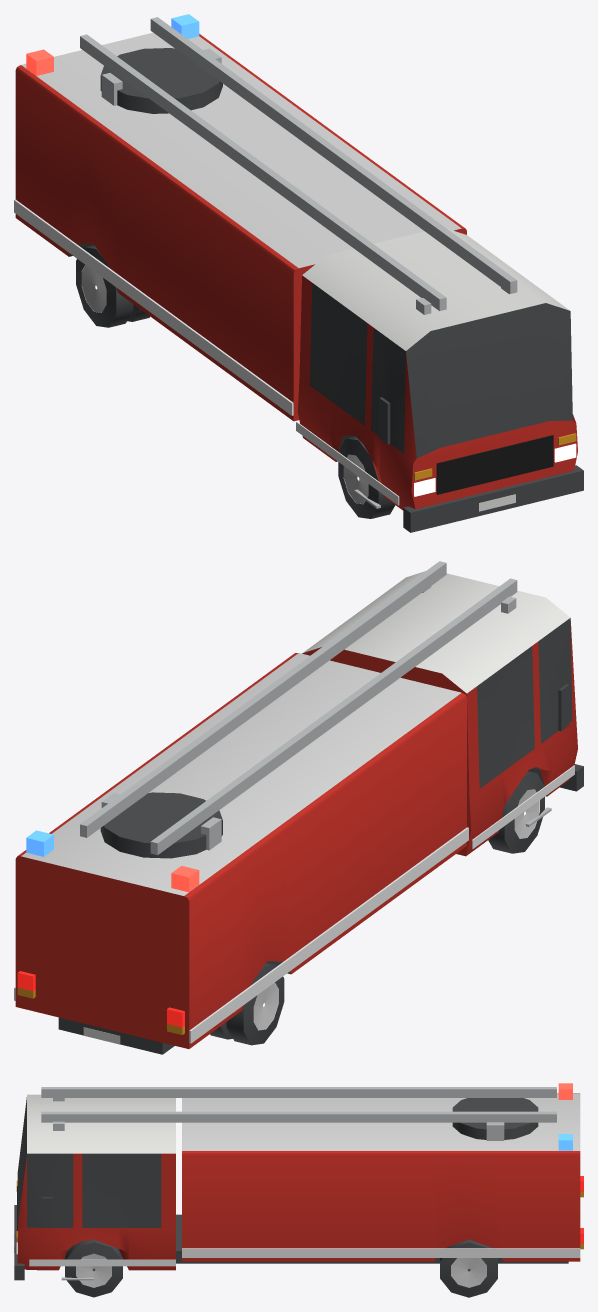
File: firetruck_lod1.glb
3 views of the same model, one above another, from view 1: azimuth 30°, elevation 25°; view 2: azimuth 150°, elevation 25°; view 3: azimuth 270°, elevation 25° (orthographic). The views are drawn at different scales.
Parts seen in each view (by area): view 1: firetruck_lod1; view 2: firetruck_lod1; view 3: firetruck_lod1.
Part boxes in pixels (box(x1,y1,x2,y2)): firetruck_lod1: box(14, 14, 583, 532); firetruck_lod1: box(14, 561, 583, 1054); firetruck_lod1: box(14, 1083, 583, 1297).
Size of the model in its own units: 0.1285 by 0.158 by 0.4862.
